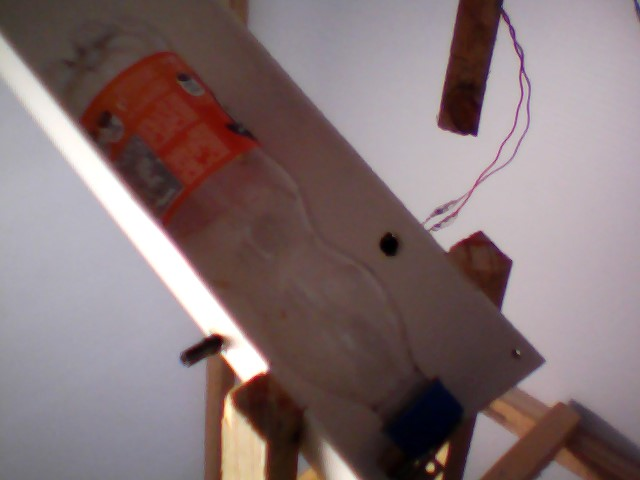plastico: (36, 4, 474, 467)
